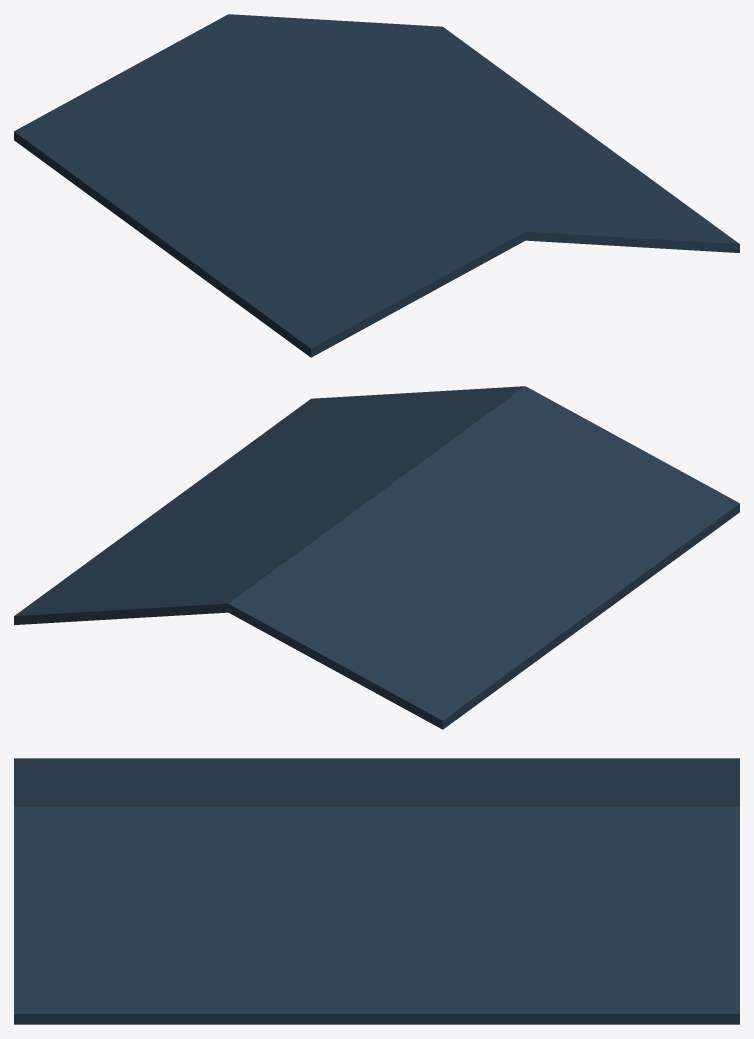
File: PirateCove_CaptainsRoof_Simple.glb
The picture shows the model from 3 angles, top to bottom: view 1: azimuth 30°, elevation 25°; view 2: azimuth 150°, elevation 25°; view 3: azimuth 270°, elevation 25°; orthographic projection. The views are drawn at different scales.
Visible parts, largest first — view 1: PirateCove_CaptainsRoof_Simple; view 2: PirateCove_CaptainsRoof_Simple; view 3: PirateCove_CaptainsRoof_Simple.
Boxes of the visible parts, x1,y1,x2,y2 form: PirateCove_CaptainsRoof_Simple: (14,14,739,357); PirateCove_CaptainsRoof_Simple: (14,386,739,729); PirateCove_CaptainsRoof_Simple: (14,758,739,1024).
Bounding box in the file's own units: 9 × 1.48 × 10.8.
